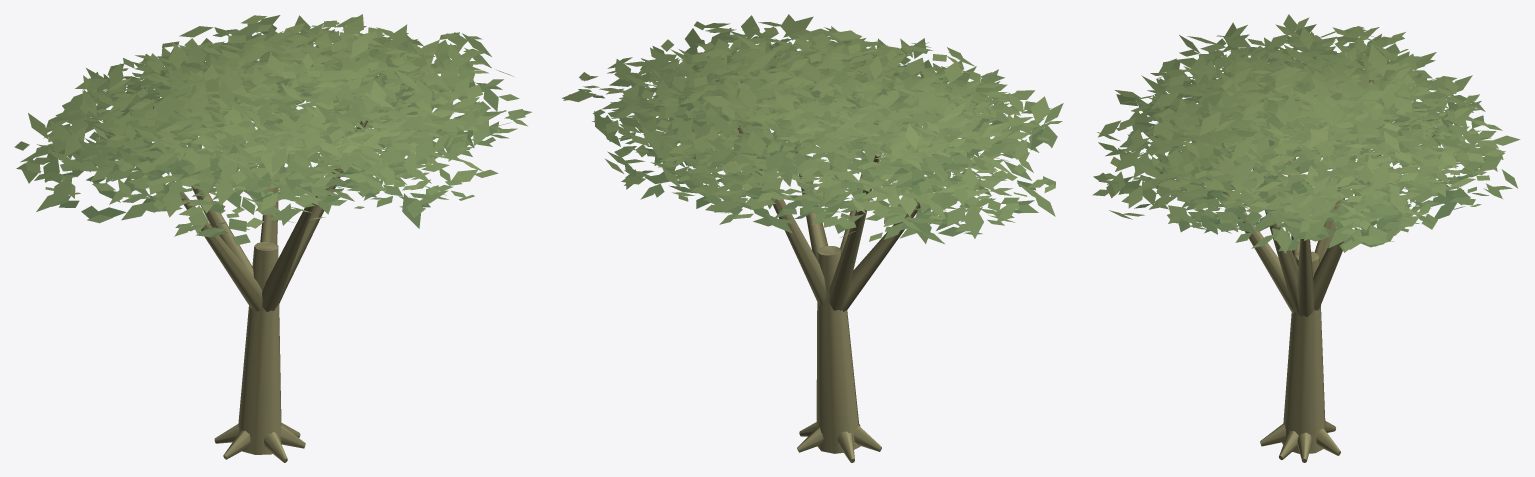
Rendered from pine_tree.glb.
The picture shows the model from 3 angles, left to right: view 1: azimuth 30°, elevation 25°; view 2: azimuth 150°, elevation 25°; view 3: azimuth 270°, elevation 25°; orthographic projection. The views are drawn at different scales.
Visible parts, largest first — view 1: Canopy, Body; view 2: Canopy, Body; view 3: Canopy, Body.
Boxes of the visible parts, x1,y1,x2,y2 form: Canopy: (14,14,531,245); Body: (150,98,367,462); Canopy: (562,14,1063,243); Body: (737,125,939,462); Canopy: (1092,14,1520,253); Body: (1220,80,1381,462).
Size of the model in its own units: 7.96 by 6.35 by 6.48.
